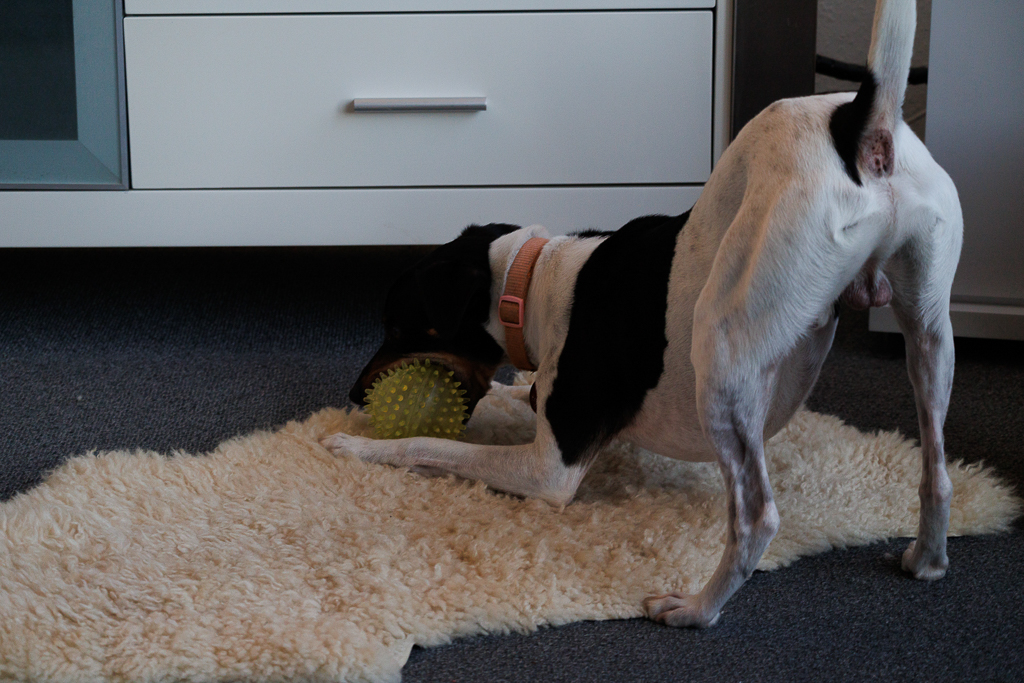Dog: (318, 0, 967, 634)
